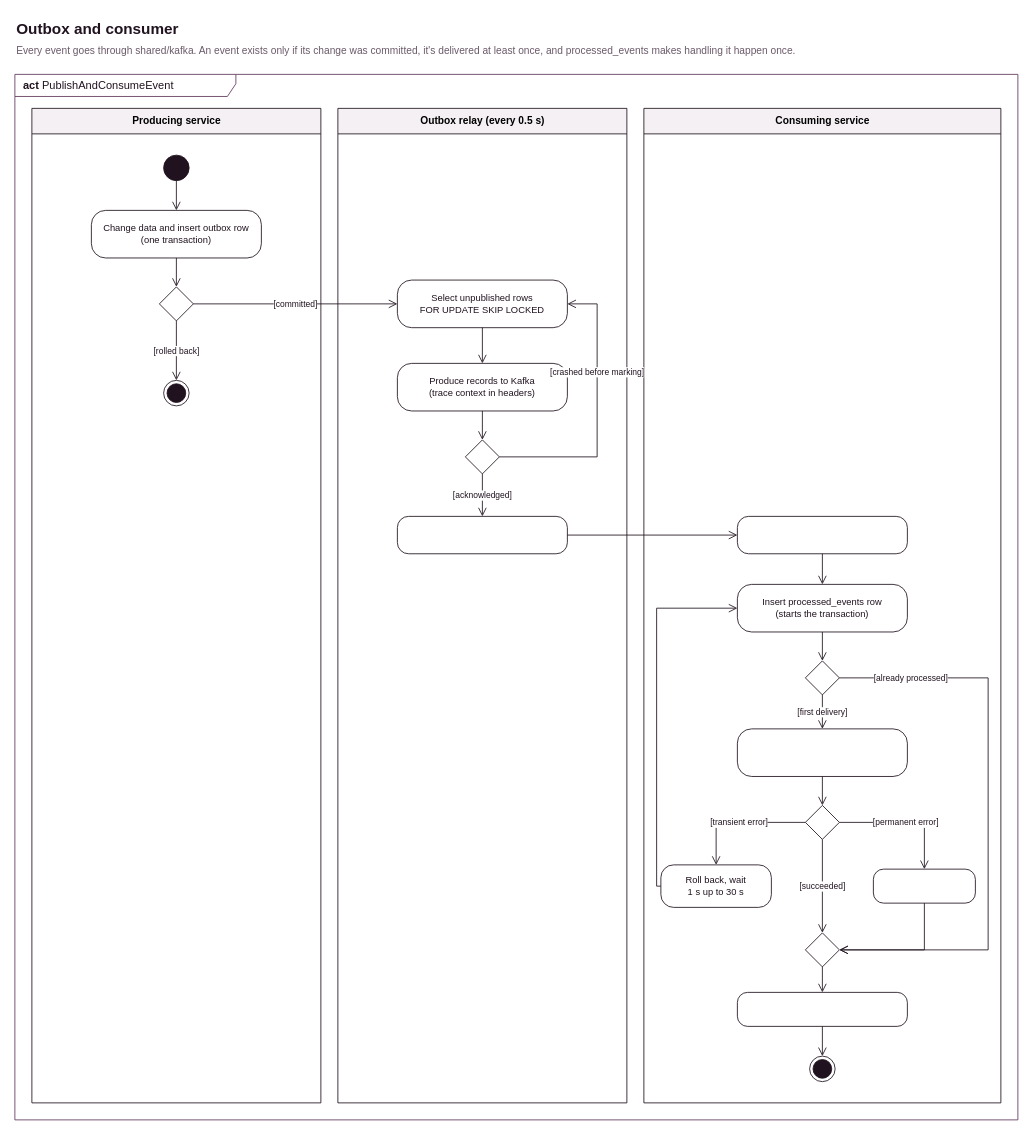
Image size: 1033x1135. Some labels were removed from this diagram. Here are the shapes that lost their labels. From the top down, the centre of each, then its label:
the point at 482,535: Set published_at
the point at 822,535: Receive record
the point at 822,752: Handle the event in the same transaction
the point at 924,885: Log and skip
the point at 822,1009: Commit offset
